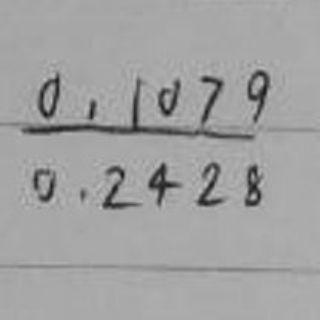.: (76, 92, 109, 123), (76, 185, 90, 204)
0: (36, 72, 61, 119), (30, 166, 58, 204), (157, 75, 182, 116)
1: (129, 76, 142, 127)
2: (100, 165, 143, 210), (194, 161, 227, 208)
4: (146, 161, 183, 209)
7: (198, 73, 226, 125)
8: (242, 163, 265, 208)
9: (245, 67, 272, 124)
